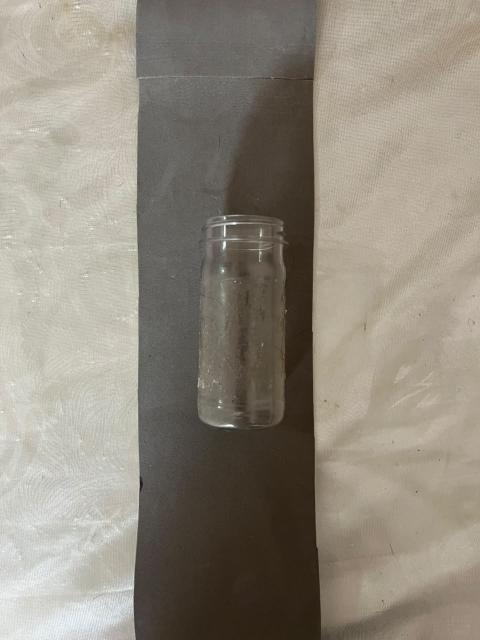PET: (160, 163, 350, 519)
